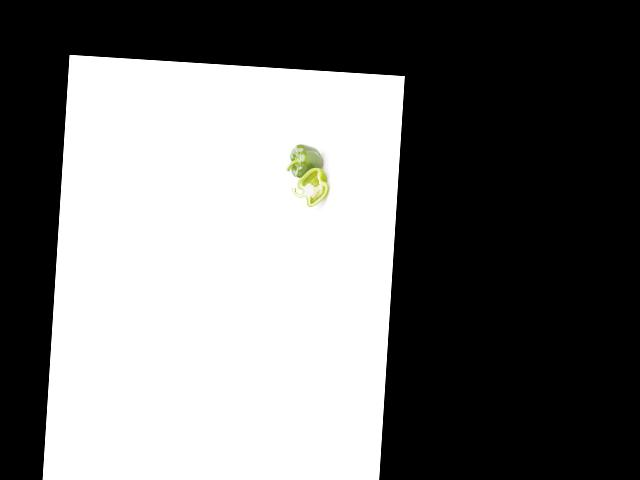bell_pepper: (289, 164, 329, 209)
